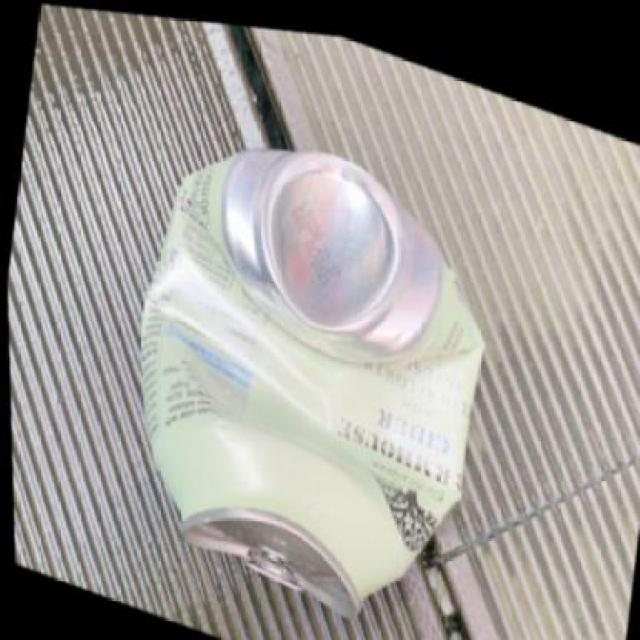Metal: (141, 147, 489, 616)
